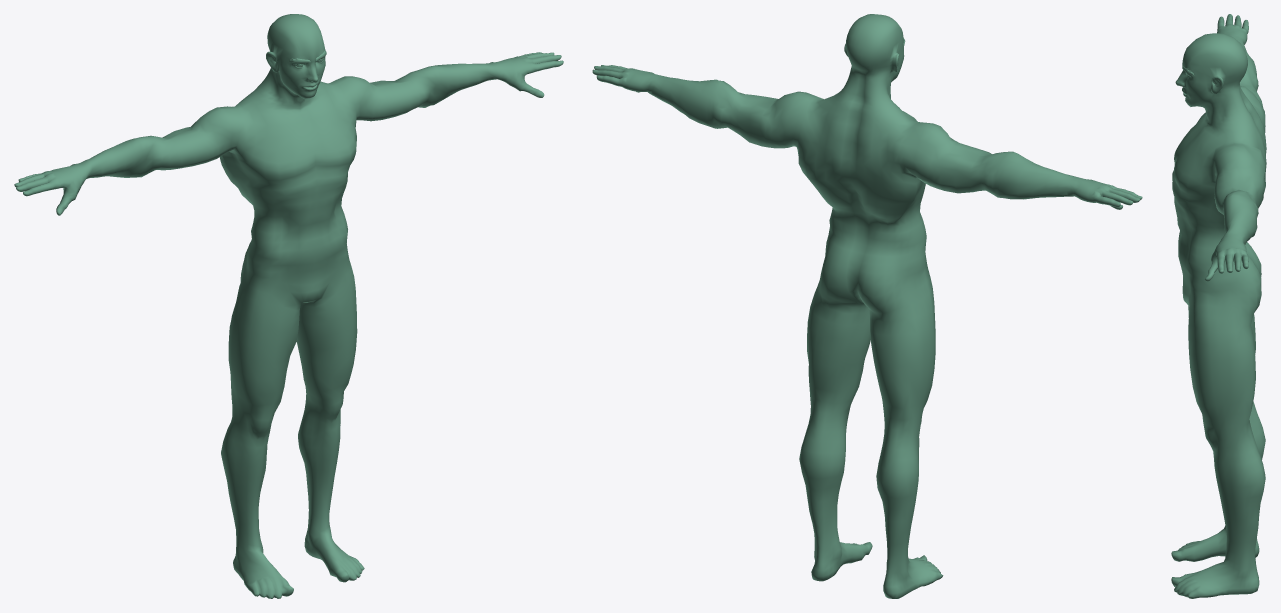
Rendered from protagonist.obj.
The picture shows the model from 3 angles, left to right: view 1: azimuth 30°, elevation 25°; view 2: azimuth 150°, elevation 25°; view 3: azimuth 270°, elevation 25°; orthographic projection. The views are drawn at different scales.
Visible parts, largest first — view 1: Sphere.005_Retopology.004; view 2: Sphere.005_Retopology.004; view 3: Sphere.005_Retopology.004.
Part boxes in pixels (box(x1,y1,x2,y2)): Sphere.005_Retopology.004: box(14, 14, 563, 598); Sphere.005_Retopology.004: box(592, 14, 1142, 598); Sphere.005_Retopology.004: box(1171, 14, 1266, 598).
Bounding box in the file's own units: 1.86 × 1.82 × 0.2915.
